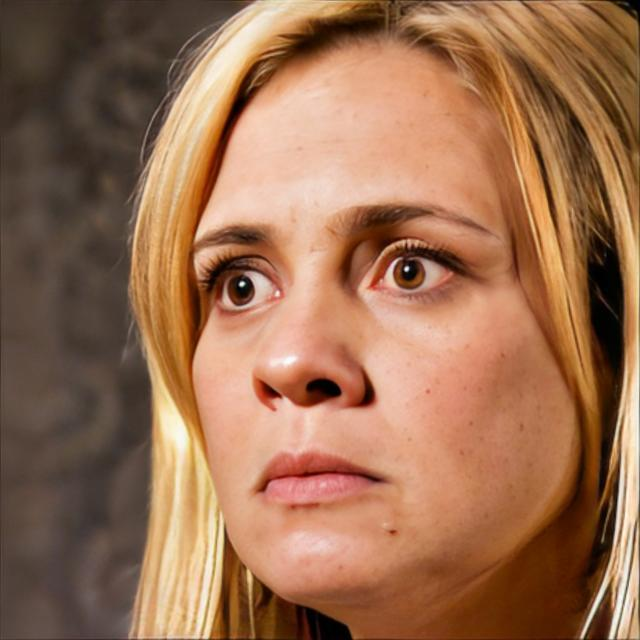fear: (185, 32, 584, 606)
